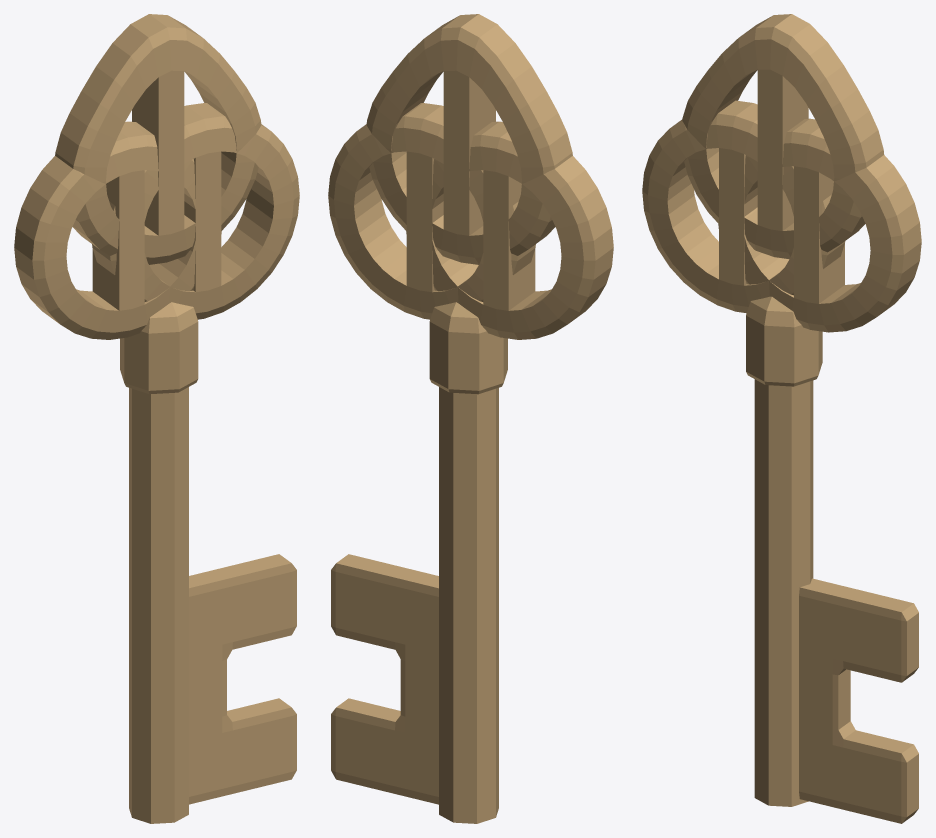
The model's file is theme02_key08.fbx.
3 views of the same model, side by side, from view 1: azimuth 30°, elevation 25°; view 2: azimuth 150°, elevation 25°; view 3: azimuth 330°, elevation 25° (orthographic). The views are drawn at different scales.
Visible parts, largest first — view 1: key08head.003; view 2: key08head.003; view 3: key08head.003.
Part boxes in pixels (x1,y1,x2,y2): key08head.003: (14, 14, 299, 823); key08head.003: (328, 14, 613, 823); key08head.003: (642, 14, 921, 823).
Size of the model in its own units: 11.38 by 32.13 by 2.98.
